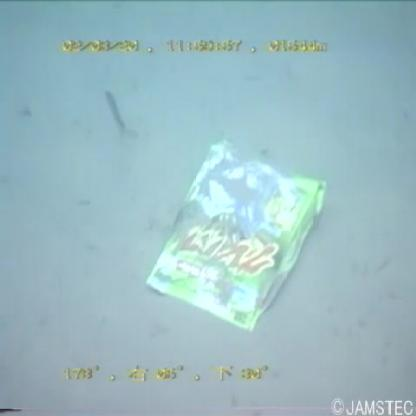Rác: (135, 125, 333, 346)
